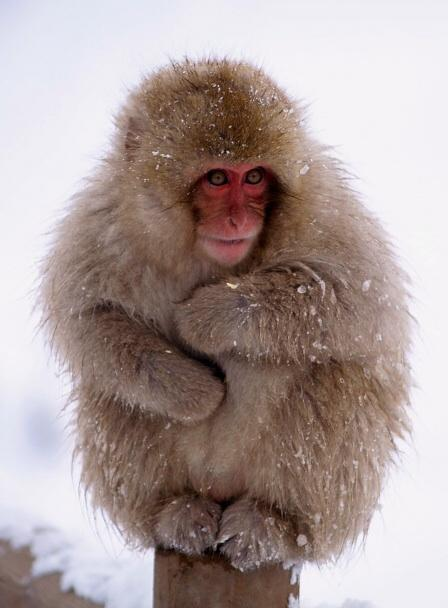monkey: (38, 69, 417, 576)
